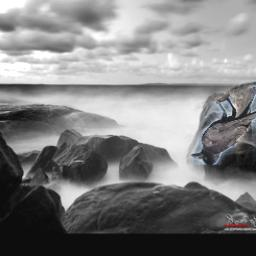Crow: (190, 85, 256, 165)
